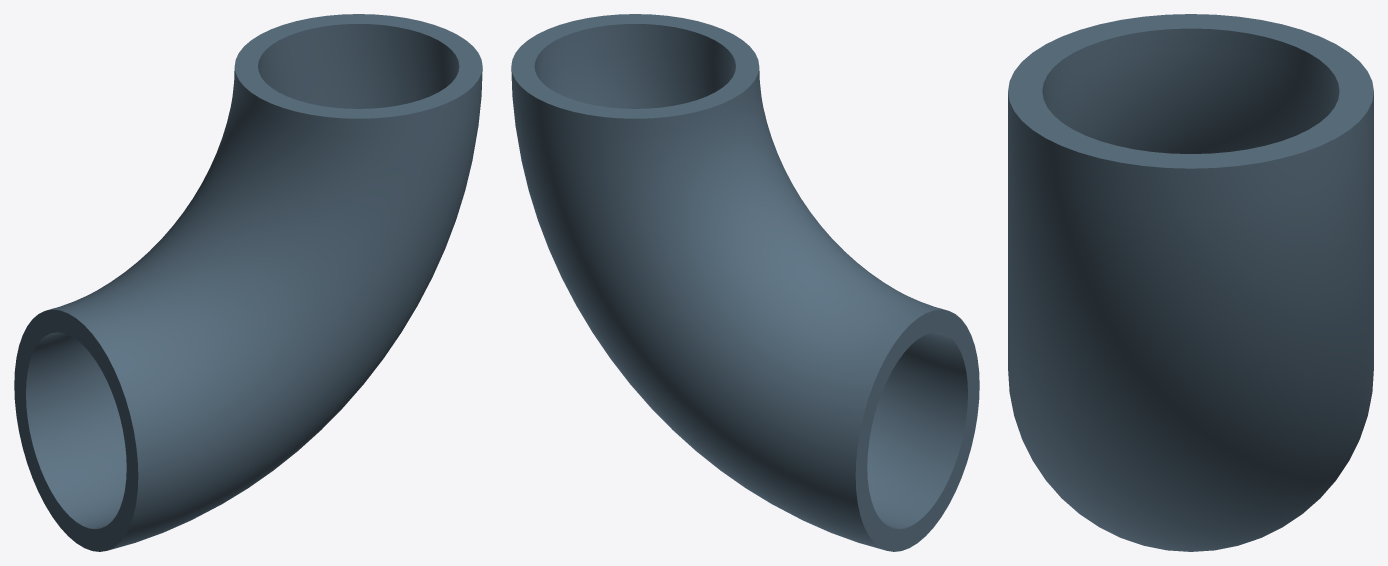
File: otvod-90-21_3x2-R28.glb
3 renders of one model, left to right at view 1: azimuth 30°, elevation 25°; view 2: azimuth 150°, elevation 25°; view 3: azimuth 270°, elevation 25°, orthographic. The views are drawn at different scales.
Visible parts, largest first — view 1: Open CASCADE STEP translator 7.9 1; view 2: Open CASCADE STEP translator 7.9 1; view 3: Open CASCADE STEP translator 7.9 1.
Part boxes in pixels (x1,y1,x2,y2): Open CASCADE STEP translator 7.9 1: [14, 14, 482, 551]; Open CASCADE STEP translator 7.9 1: [511, 14, 979, 551]; Open CASCADE STEP translator 7.9 1: [1008, 14, 1373, 551].
Size of the model in its own units: 38.65 by 38.65 by 21.3.
